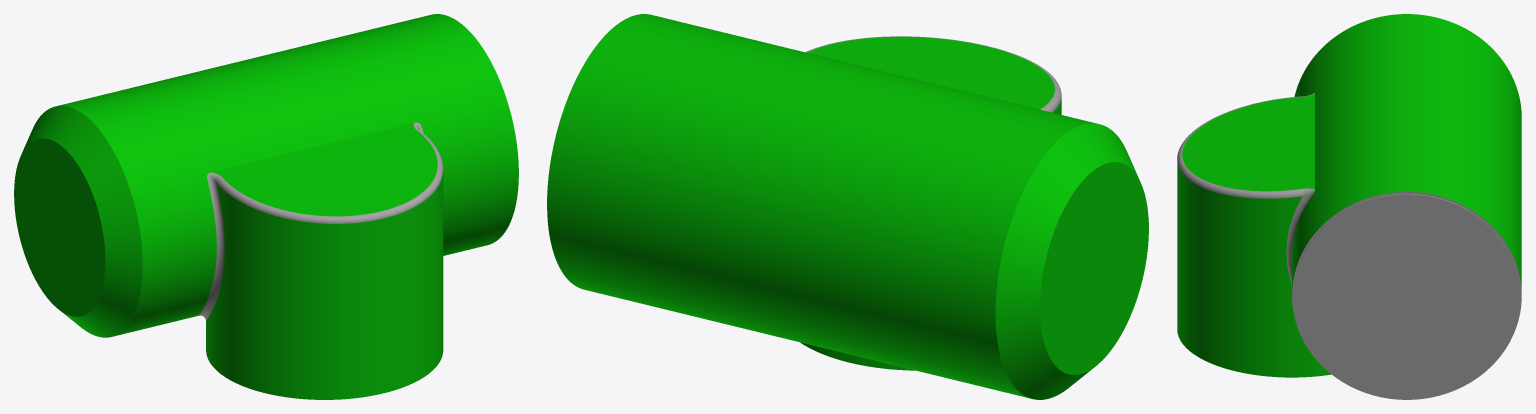
Rendered from Arm02.dae.
The picture shows the model from 3 angles, left to right: view 1: azimuth 30°, elevation 25°; view 2: azimuth 150°, elevation 25°; view 3: azimuth 270°, elevation 25°; orthographic projection. The views are drawn at different scales.
Visible parts, largest first — view 1: Arm02; view 2: Arm02; view 3: Arm02.
Part boxes in pixels (bbox=[...]): Arm02: bbox=[14, 14, 518, 399]; Arm02: bbox=[547, 14, 1148, 399]; Arm02: bbox=[1177, 14, 1521, 399].
Size of the model in its own units: 0.39 by 0.2999 by 0.22.
